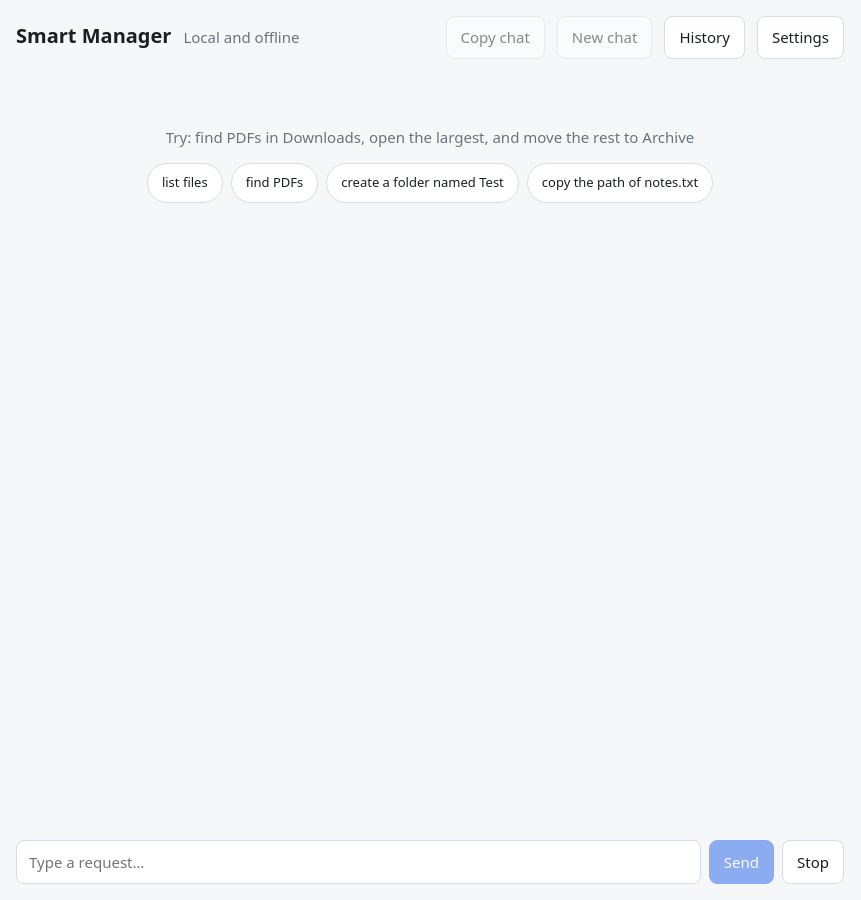
Test case: App › approves exactly what the server showed, with the session token
Step 1. Type "move a.pdf to Archive" into the field with placeholder "Type a request…" → (358, 862), box [16,840,701,884]
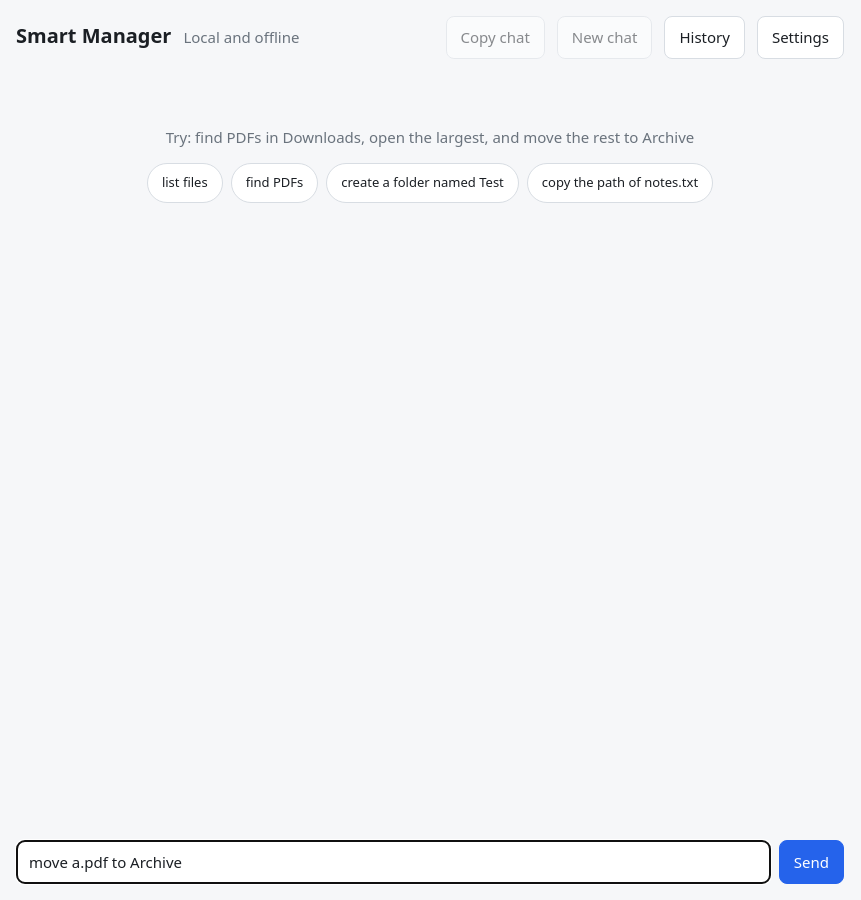
Step 2. Click the button "Send" → (811, 862), box [779,840,844,884]
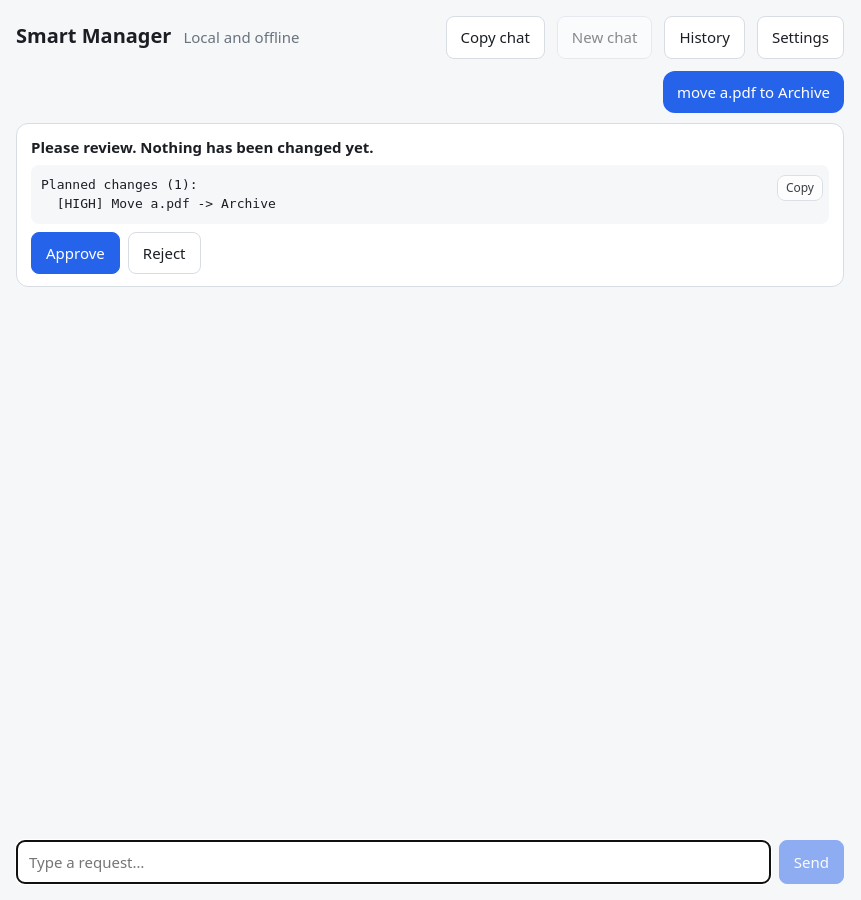
Step 3. Click the button "Approve" → (75, 253), box [31,232,120,274]
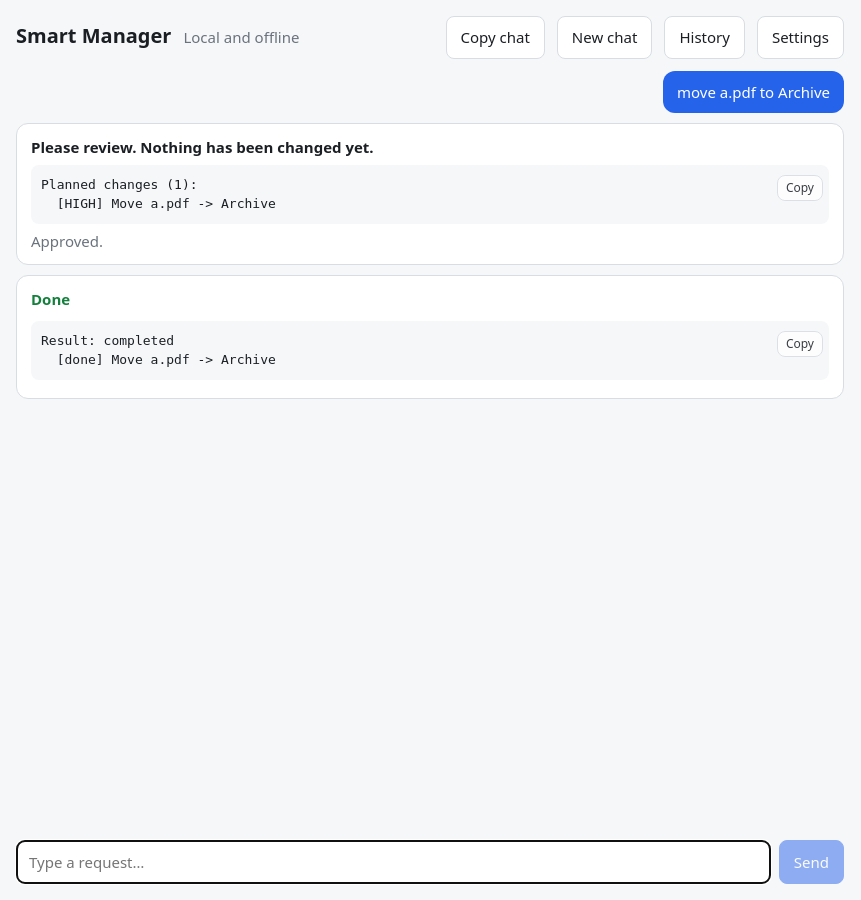
Expected: the text "Result: completed [done] Move a.pdf -> Archive" is shown, [31,320,829,380]
